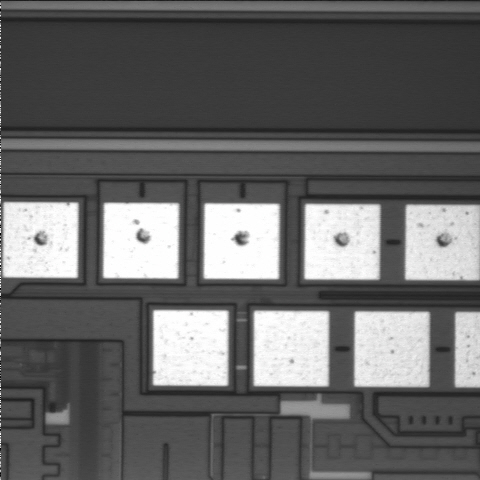pad: (203, 203, 280, 279), (103, 203, 179, 279), (304, 204, 380, 280), (3, 202, 78, 278), (153, 310, 228, 386), (354, 311, 429, 387), (254, 311, 329, 386)
